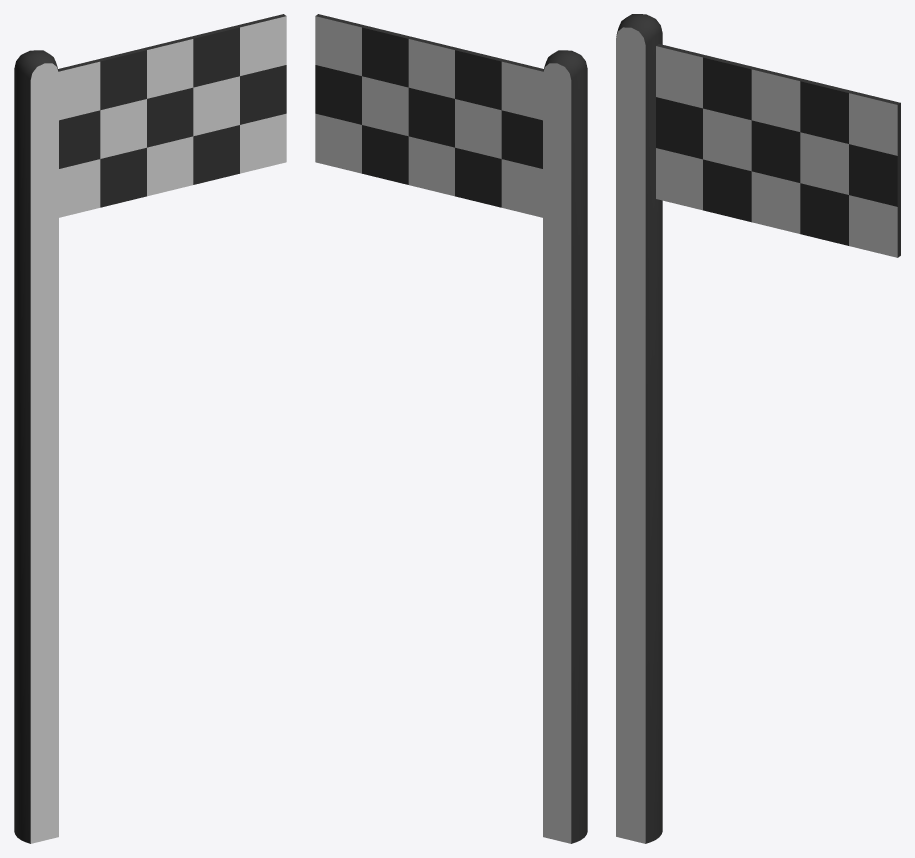
Rendered from Finish Flag.fbx.
3 views of the same model, side by side, from view 1: azimuth 30°, elevation 25°; view 2: azimuth 150°, elevation 25°; view 3: azimuth 330°, elevation 25° (orthographic). The views are drawn at different scales.
Visible parts, largest first — view 1: Flag Finish; view 2: Flag Finish; view 3: Flag Finish.
Boxes of the visible parts, <box> form: Flag Finish: <box>14,14,286,843</box>; Flag Finish: <box>315,14,587,843</box>; Flag Finish: <box>616,14,900,843</box>.
Bounding box in the file's own units: 0.6609 × 1.86 × 0.07.
